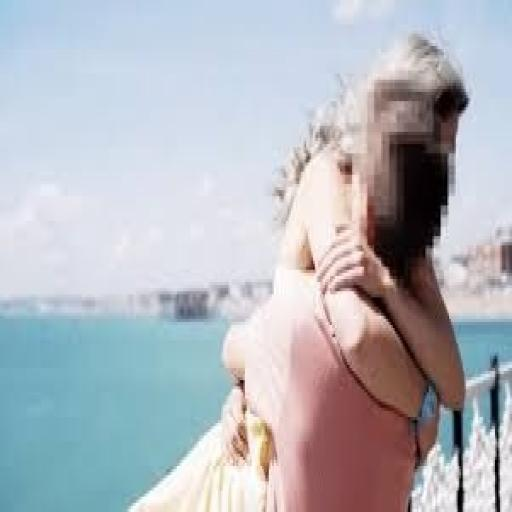hugging: (126, 28, 473, 509)
